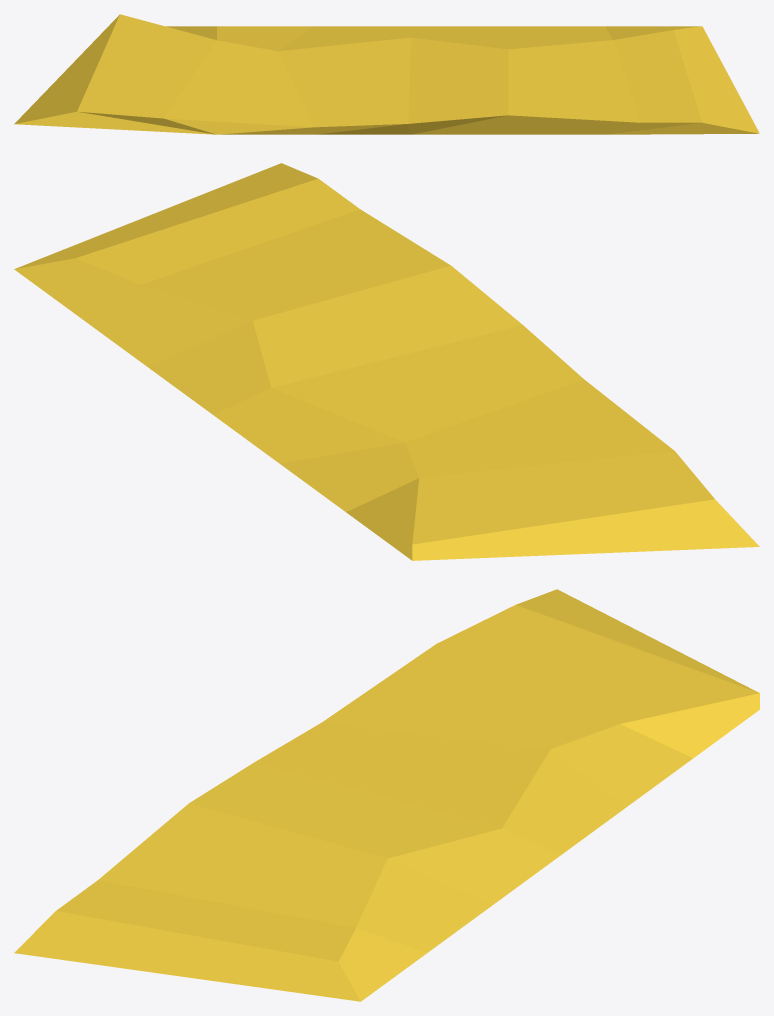
File: connection_00_4.fbx
3 renders of one model, top to bottom at view 1: azimuth 30°, elevation 25°; view 2: azimuth 150°, elevation 25°; view 3: azimuth 270°, elevation 25°, orthographic. The views are drawn at different scales.
Visible parts, largest first — view 1: sandConnector; view 2: sandConnector; view 3: sandConnector.
Part boxes in pixels (x1,y1,x2,y2): sandConnector: (14,14,759,134); sandConnector: (14,163,759,560); sandConnector: (14,589,759,1001).
Bounding box in the file's own units: 34.14 × 1.03 × 26.09.
